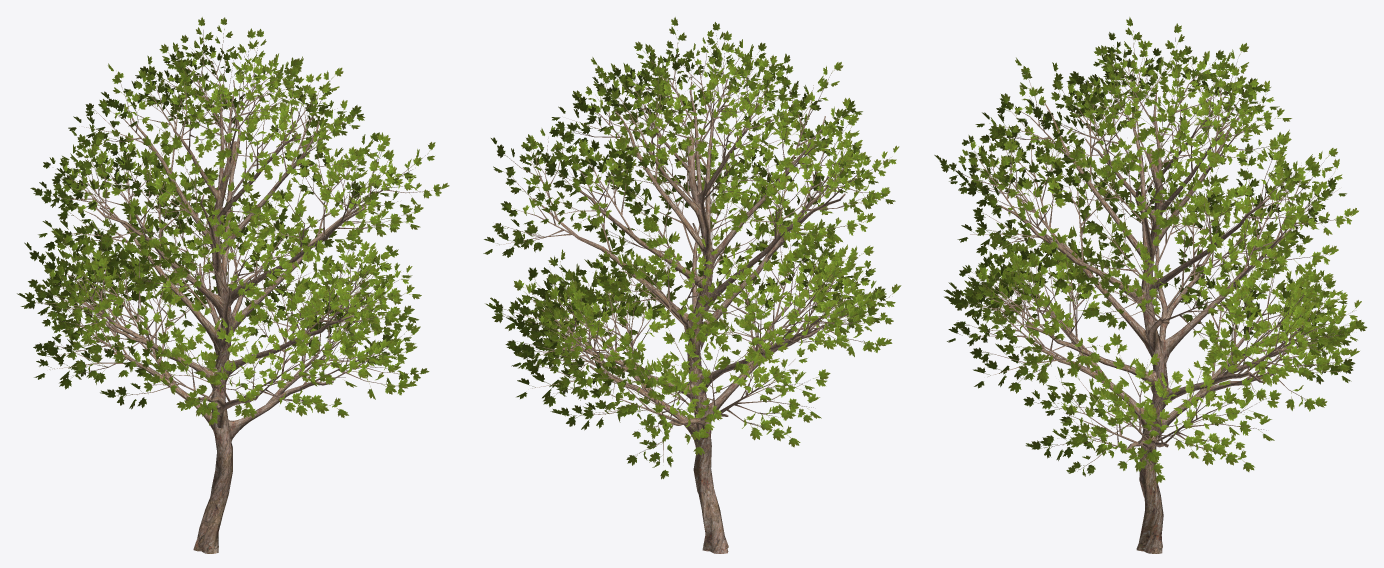
File: tree-maple-12m.glb
3 renders of one model, left to right at view 1: azimuth 30°, elevation 25°; view 2: azimuth 150°, elevation 25°; view 3: azimuth 270°, elevation 25°, orthographic. The views are drawn at different scales.
Parts seen in each view (by area): view 1: Tree_1, Tree_0; view 2: Tree_1, Tree_0; view 3: Tree_1, Tree_0.
Boxes of the visible parts, bbox=[...] form: Tree_1: bbox=[17, 17, 449, 425]; Tree_0: bbox=[35, 29, 431, 553]; Tree_1: bbox=[483, 17, 901, 479]; Tree_0: bbox=[497, 38, 889, 553]; Tree_1: bbox=[934, 17, 1367, 483]; Tree_0: bbox=[943, 31, 1352, 553].
Size of the model in its own units: 4.95 by 5.78 by 4.5.
Materials: 2 (2 with a texture image).
